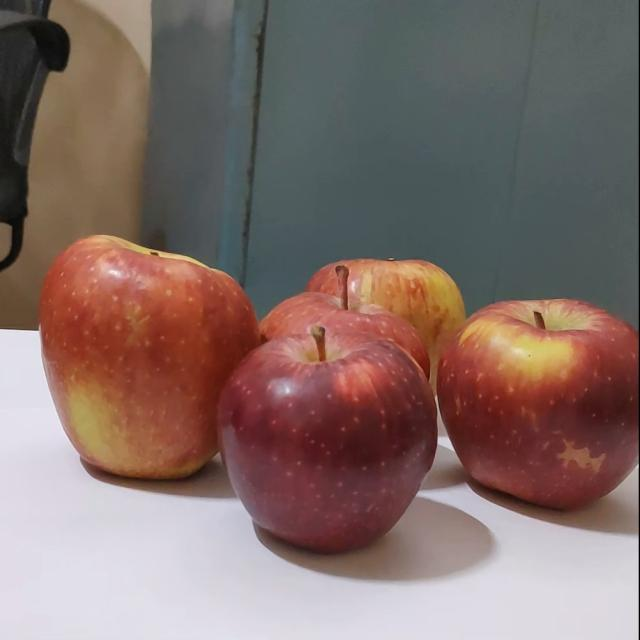apple: (406, 304, 640, 514), (28, 243, 236, 478), (198, 330, 409, 550), (239, 269, 407, 477), (300, 252, 453, 429)
